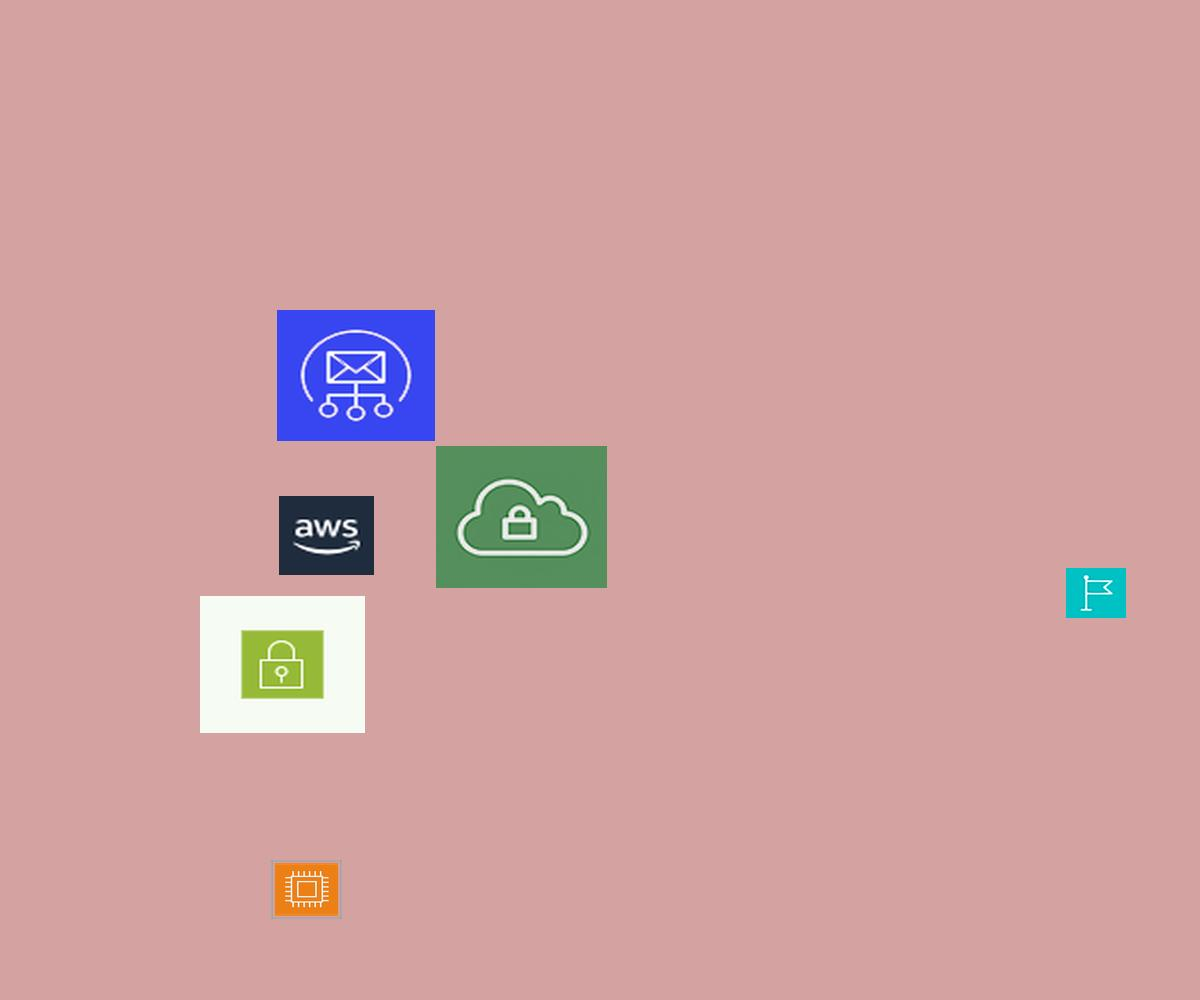AWS-Category_Compute: (271, 860, 342, 919)
AWS-Cloud-logo: (279, 496, 374, 575)
AWS-Private_vpc: (436, 446, 607, 588)
AWS-Public-subnet: (200, 596, 365, 733)
AWS-Region: (1066, 568, 1126, 618)
AWS-Simple-Email-Service: (277, 310, 435, 441)
